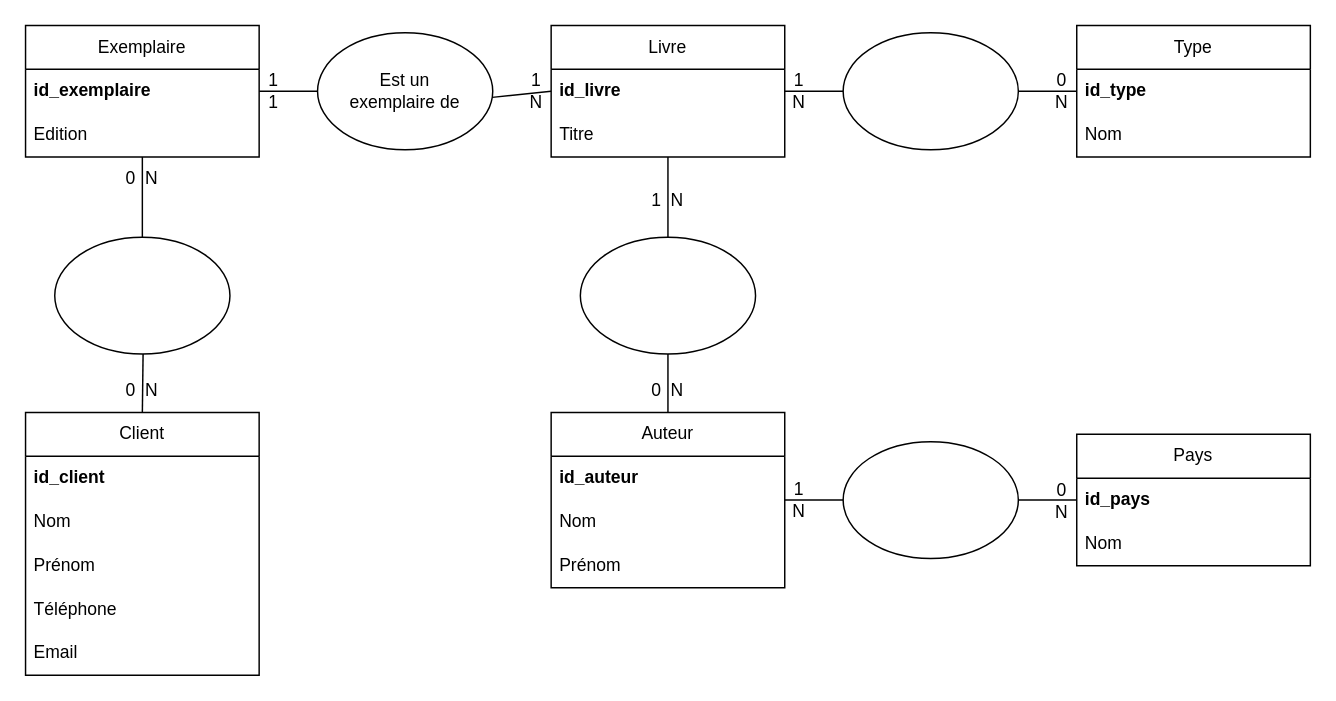
Image size: 1336x701. Some labels were removed from this diagram. Here are the shapes that lost their labels. From the top down, the centre of each, then its label:
At (x=930, y=90): "Appartient au type".
At (x=141, y=295): "Emprunte".
At (x=667, y=295): "A écrit".
At (x=930, y=499): "Est de".
